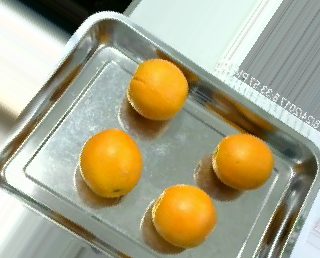Orange: (78, 126, 142, 198), (151, 183, 217, 247), (127, 57, 189, 120), (212, 133, 275, 190)
